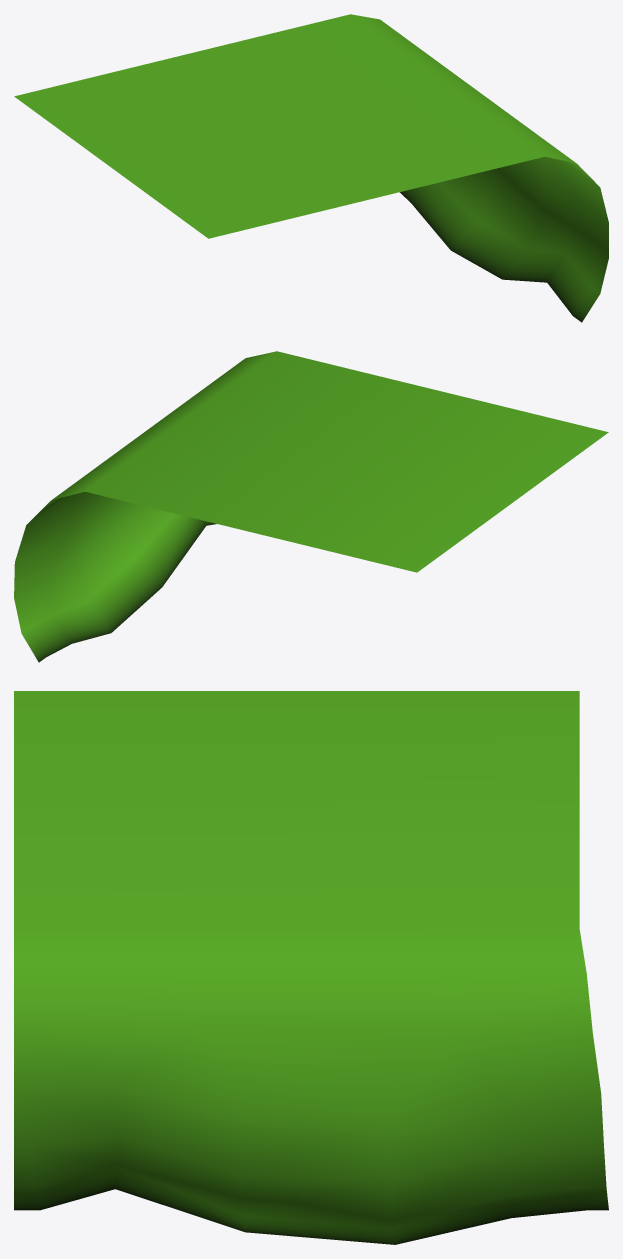
The model's file is Surface_SideUpInner.fbx.
3 renders of one model, top to bottom at view 1: azimuth 30°, elevation 25°; view 2: azimuth 150°, elevation 25°; view 3: azimuth 270°, elevation 25°, orthographic. The views are drawn at different scales.
Visible parts, largest first — view 1: Surface_SideUpInner; view 2: Surface_SideUpInner; view 3: Surface_SideUpInner.
Part boxes in pixels (box(x1,y1,x2,y2)): Surface_SideUpInner: box(14, 14, 608, 322); Surface_SideUpInner: box(14, 351, 608, 662); Surface_SideUpInner: box(14, 691, 608, 1244).
Size of the model in its own units: 2203 by 1011 by 1886.
